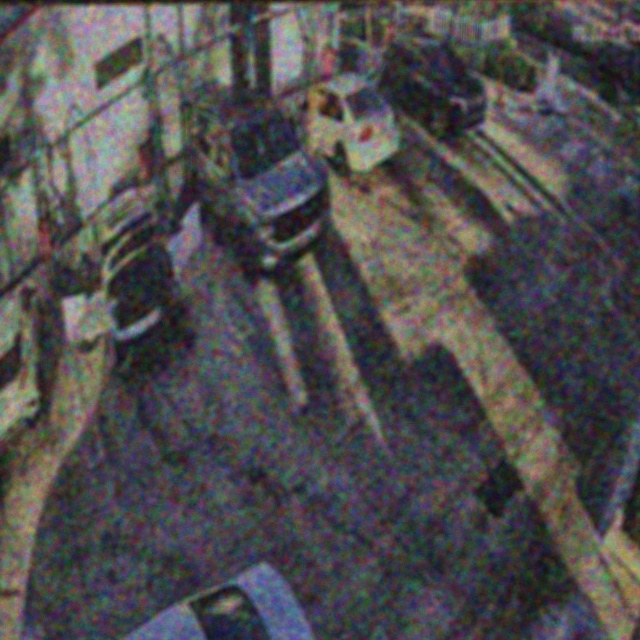Car: (181, 86, 332, 283), (60, 183, 197, 366), (285, 74, 402, 173)
